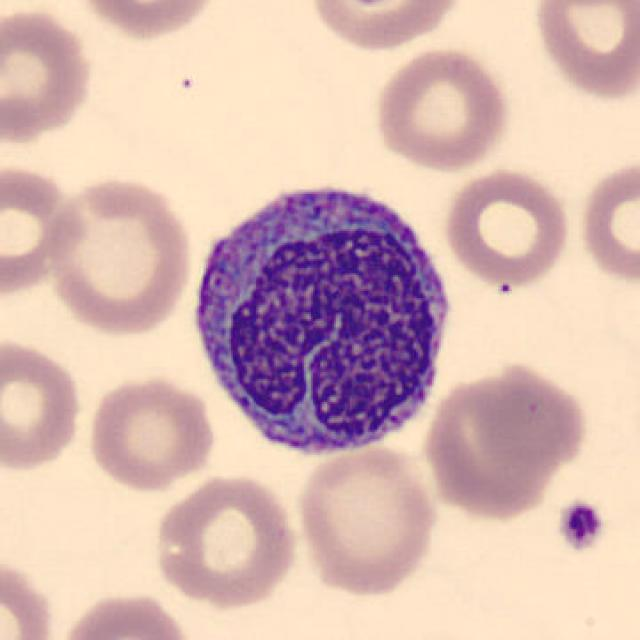Monocyte: (180, 166, 460, 470)
Platelets: (555, 496, 608, 556)
RBC: (42, 173, 196, 337), (420, 367, 572, 522), (293, 441, 441, 599), (150, 469, 300, 610), (370, 44, 514, 173), (441, 164, 574, 291), (84, 372, 218, 494), (0, 2, 98, 150), (468, 360, 590, 478), (0, 333, 87, 474), (0, 158, 85, 298), (526, 0, 640, 104), (574, 153, 640, 290), (302, 0, 470, 53), (55, 587, 196, 640), (69, 0, 223, 42), (0, 553, 58, 640)
